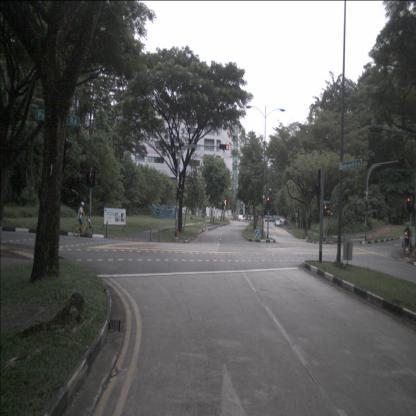vehicle-bicycle: (73, 200, 94, 238)
vehicle-car: (237, 214, 246, 222), (225, 214, 233, 222), (247, 215, 254, 222), (275, 219, 280, 226), (268, 216, 273, 223), (264, 215, 268, 222)
vehicle-motorcycle: (403, 223, 411, 249)
